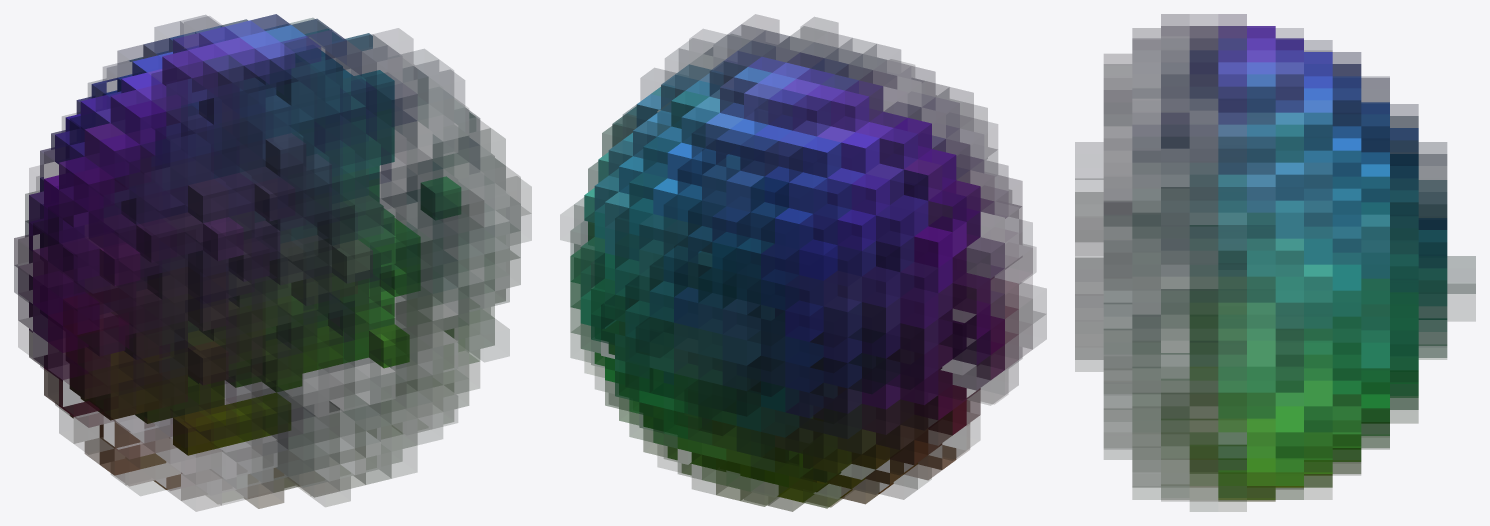
The model's file is regen_iter_15.obj.
3 renders of one model, left to right at view 1: azimuth 30°, elevation 25°; view 2: azimuth 150°, elevation 25°; view 3: azimuth 270°, elevation 25°, orthographic. The views are drawn at different scales.
Parts seen in each view (by area): view 1: regen_iter_15; view 2: regen_iter_15; view 3: regen_iter_15.
Part boxes in pixels (x1,y1,x2,y2): regen_iter_15: (14,14,531,511); regen_iter_15: (560,14,1046,511); regen_iter_15: (1075,14,1475,511).
Size of the model in its own units: 1.7 by 1.7 by 1.4.
